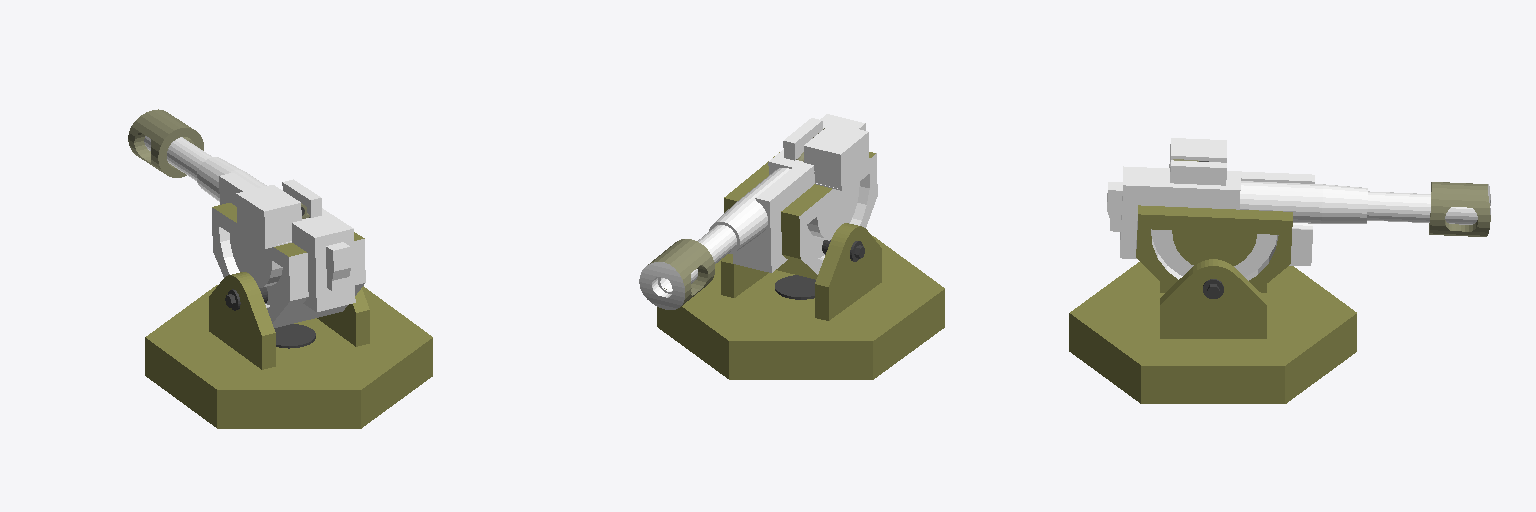
File: towerGun.obj
3 views of the same model, side by side, from view 1: azimuth 30°, elevation 25°; view 2: azimuth 150°, elevation 25°; view 3: azimuth 270°, elevation 25° (orthographic).
Parts seen in each view (by area): view 1: Mesh1 Group1 Model, Mesh6 Group2 Model, Mesh7 Group2 Model; view 2: Mesh1 Group1 Model, Mesh6 Group2 Model, Mesh7 Group2 Model; view 3: Mesh1 Group1 Model, Mesh6 Group2 Model, Mesh7 Group2 Model.
Part boxes in pixels (x1,y1,x2,y2): Mesh1 Group1 Model: (145, 272, 432, 428); Mesh6 Group2 Model: (144, 136, 365, 327); Mesh7 Group2 Model: (128, 109, 203, 177); Mesh1 Group1 Model: (657, 223, 944, 379); Mesh6 Group2 Model: (658, 114, 877, 293); Mesh7 Group2 Model: (639, 239, 714, 309); Mesh1 Group1 Model: (1069, 259, 1356, 403); Mesh6 Group2 Model: (1107, 138, 1477, 290); Mesh7 Group2 Model: (1429, 182, 1490, 236).
Size of the model in its own units: 17.54 by 14.83 by 29.61.